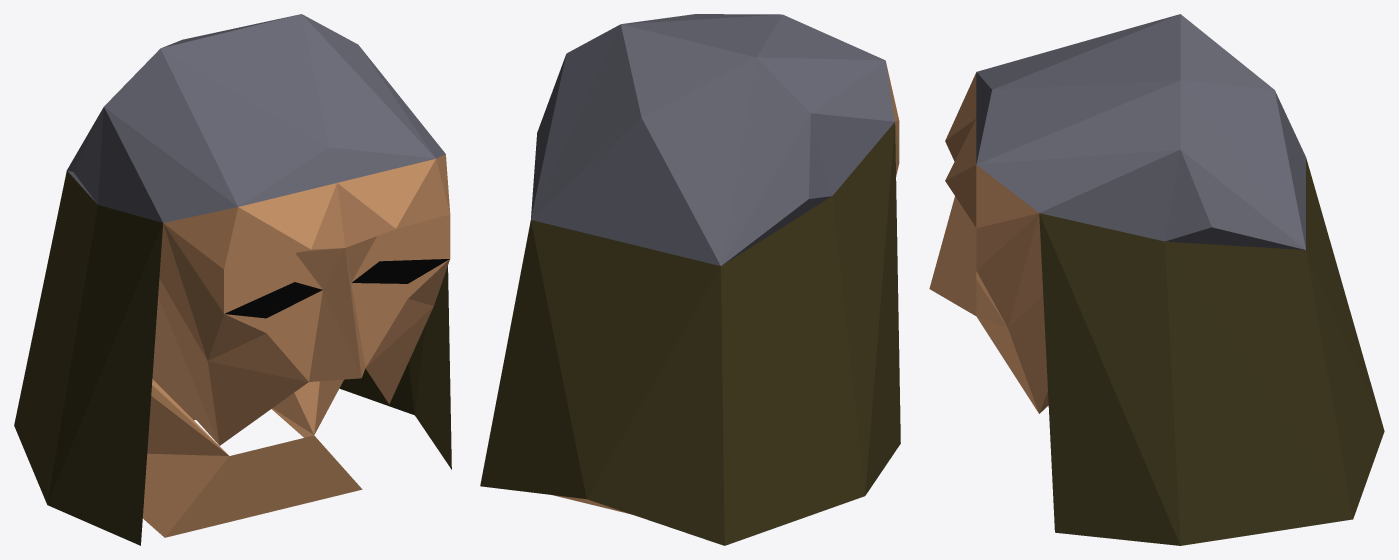
The model's file is model_220_obj_wear.obj.
3 views of the same model, side by side, from view 1: azimuth 30°, elevation 25°; view 2: azimuth 150°, elevation 25°; view 3: azimuth 270°, elevation 25° (orthographic). The views are drawn at different scales.
Visible parts, largest first — view 1: 220; view 2: 220; view 3: 220.
Boxes of the visible parts, x1,y1,x2,y2 form: 220: [14, 14, 451, 545]; 220: [480, 14, 900, 545]; 220: [929, 14, 1384, 545].
Bounding box in the file's own units: 26 × 31 × 29.
